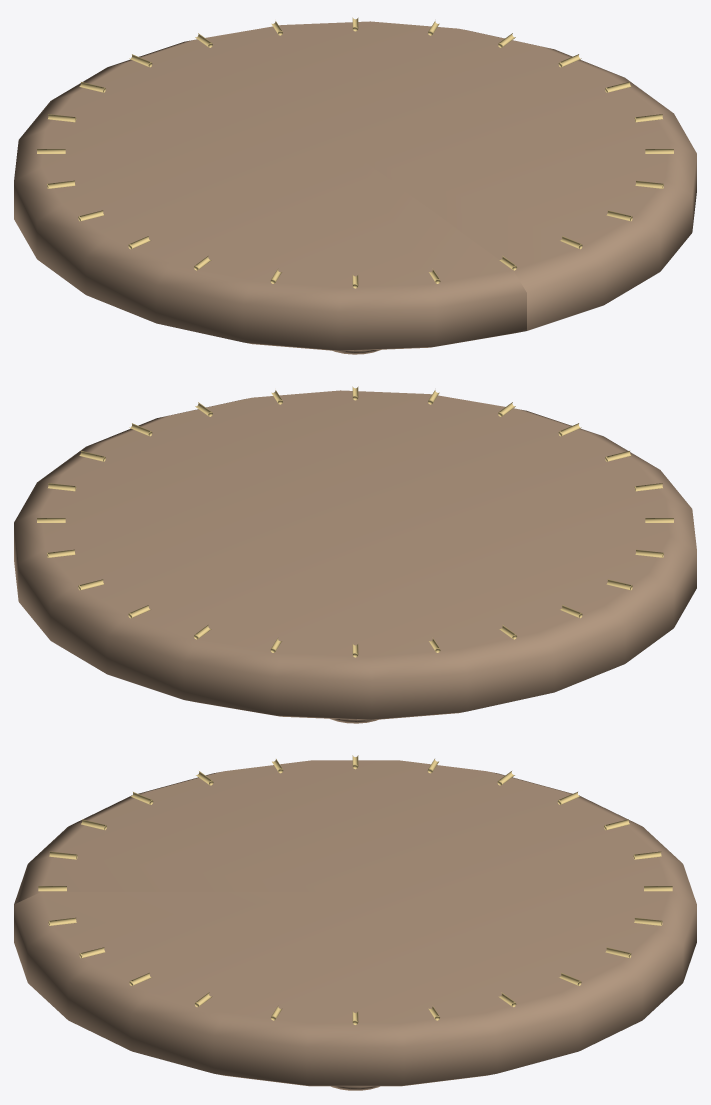
File: orrery_tray_core.glb
3 views of the same model, one above another, from view 1: azimuth 30°, elevation 25°; view 2: azimuth 150°, elevation 25°; view 3: azimuth 270°, elevation 25° (orthographic).
Parts seen in each view (by area): view 1: Orrery_Walnut_Base, Orrery_Calibration_Marks; view 2: Orrery_Walnut_Base, Orrery_Calibration_Marks; view 3: Orrery_Walnut_Base, Orrery_Calibration_Marks.
Part boxes in pixels (x1,y1,x2,y2): Orrery_Walnut_Base: (14,21,696,354); Orrery_Calibration_Marks: (37,17,673,288); Orrery_Walnut_Base: (14,390,696,723); Orrery_Calibration_Marks: (37,386,673,657); Orrery_Walnut_Base: (14,760,696,1090); Orrery_Calibration_Marks: (38,755,672,1024).
Bounding box in the file's own units: 0.4074 × 0.0596 × 0.4116.
